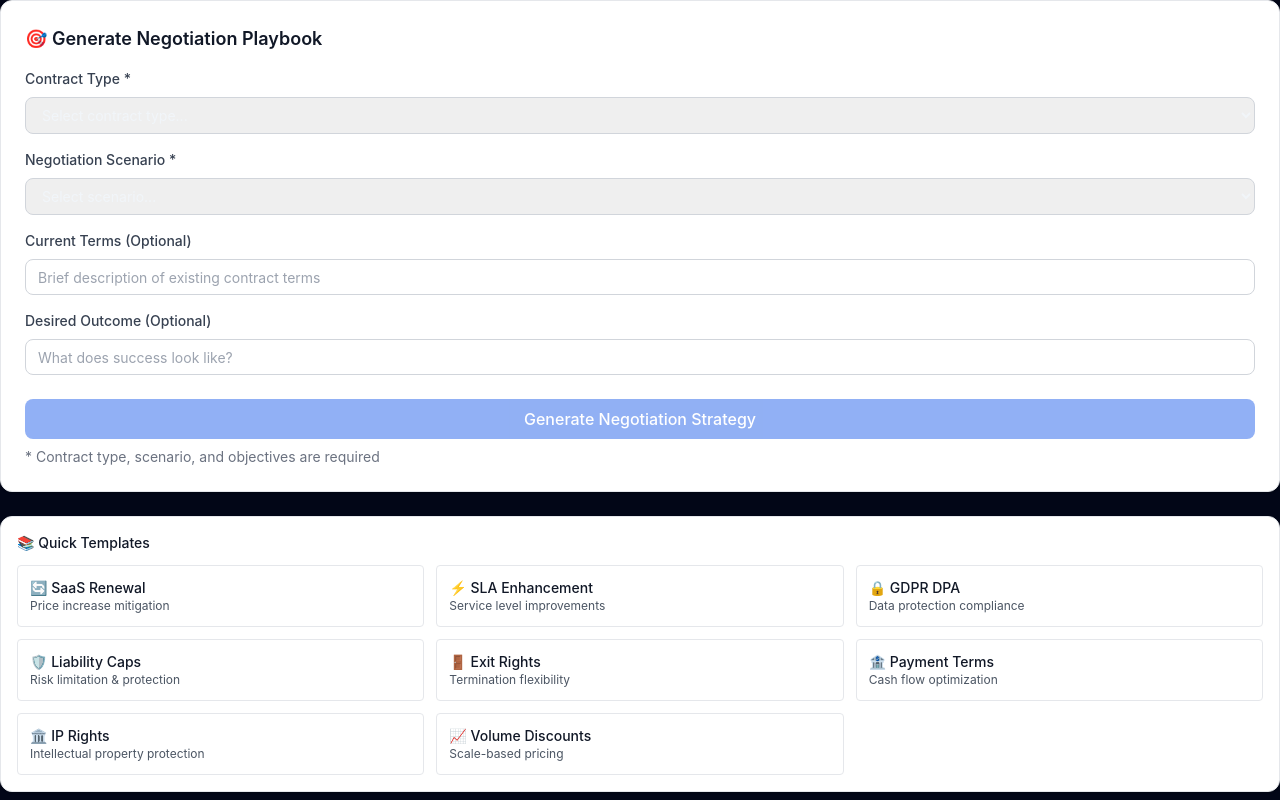
Test: PlaybookGenerator › Template Selection › should handle multiple template clicks without crashing
The width and height of the screenshot is (1280, 800).
Note: Click SLA Enhancement
Click the text "⚡ SLA Enhancement" at (521, 588), box [449,579,593,596]
(page scrolled)
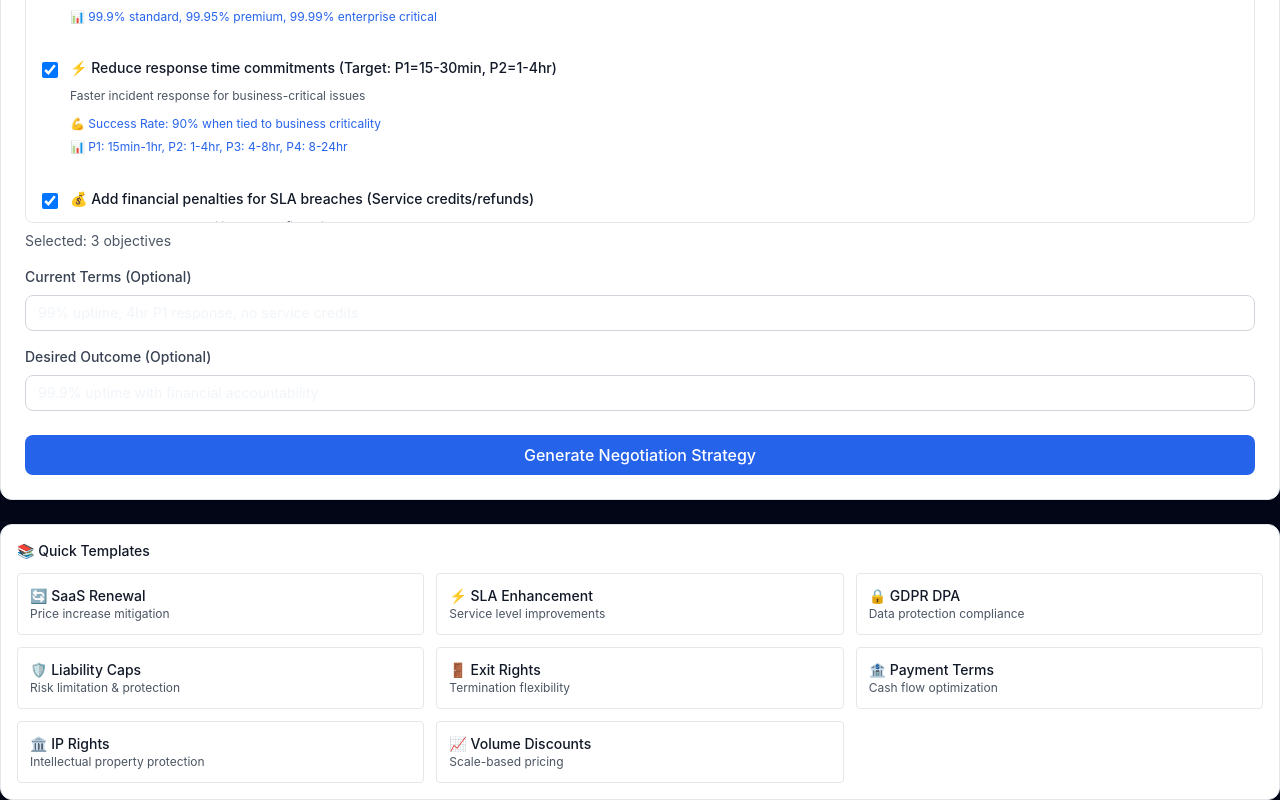
Note: Click Liability Caps
Click the text "🛡️ Liability Caps" at (86, 669), box [30,660,141,678]
(page scrolled)
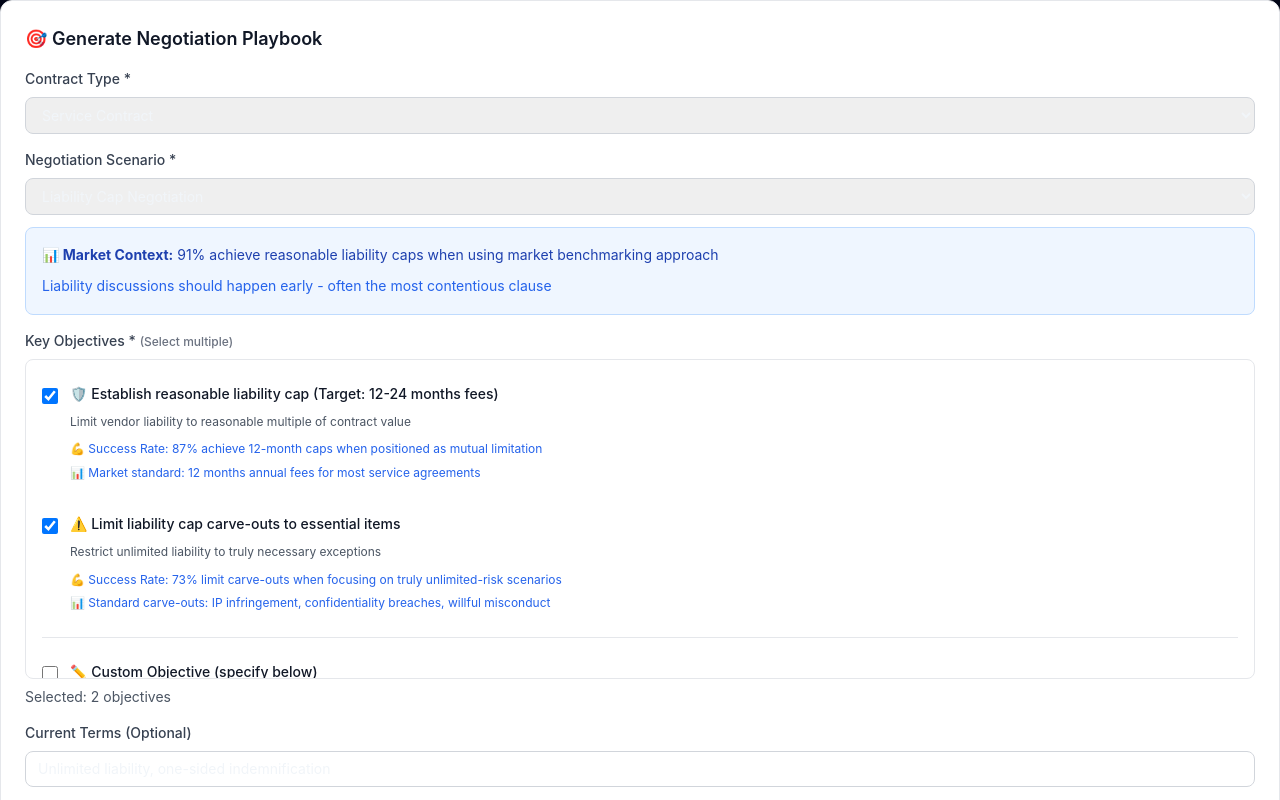
Check: the dropdown showing "Service Contract" below "Contract Type *" is shown, box [25,97,1255,134]
Check: the dropdown below "Negotiation Scenario *" shows "Liability Cap Negotiation", box [25,178,1255,215]
